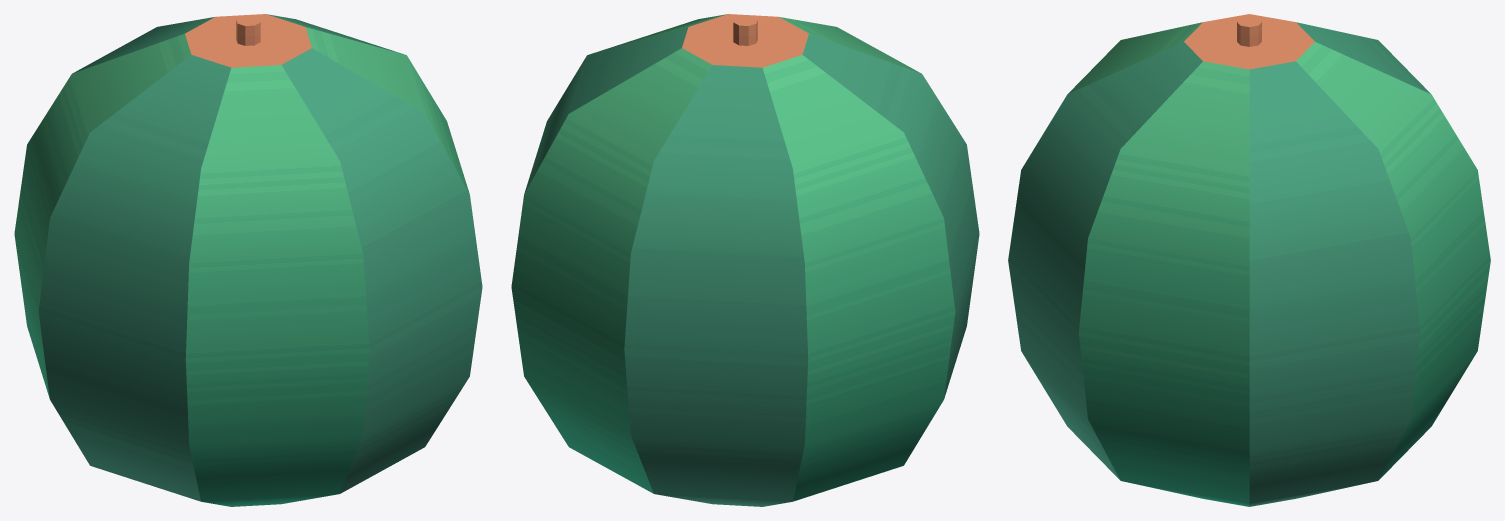
Rendered from watermelon.glb.
3 renders of one model, left to right at view 1: azimuth 30°, elevation 25°; view 2: azimuth 150°, elevation 25°; view 3: azimuth 270°, elevation 25°, orthographic.
Parts seen in each view (by area): view 1: slice; view 2: slice; view 3: slice.
Boxes of the visible parts, x1,y1,x2,y2 form: slice: (14, 14, 482, 506); slice: (511, 14, 979, 506); slice: (1008, 14, 1490, 506).
Bounding box in the file's own units: 0.4554 × 0.4761 × 0.4554.
1 material, 1 textured.
